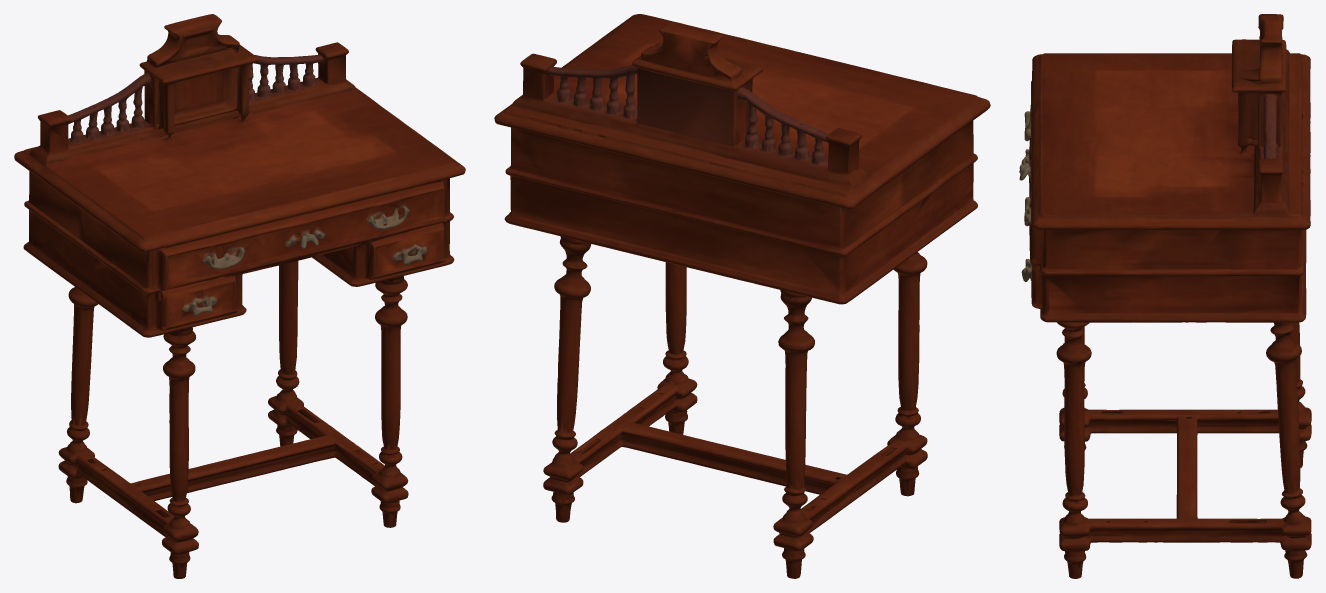
The model's file is mahogany-writing-desk.glb.
The picture shows the model from 3 angles, left to right: view 1: azimuth 30°, elevation 25°; view 2: azimuth 150°, elevation 25°; view 3: azimuth 270°, elevation 25°; orthographic projection. The views are drawn at different scales.
Parts seen in each view (by area): view 1: world; view 2: world; view 3: world.
Part boxes in pixels (left/top/right/bottom): world: left=14, top=14, right=465, bottom=578; world: left=494, top=14, right=990, bottom=578; world: left=1019, top=14, right=1311, bottom=578.
Size of the model in its own units: 0.745 by 1 by 0.5392.
Materials: 1 (1 with a texture image).
